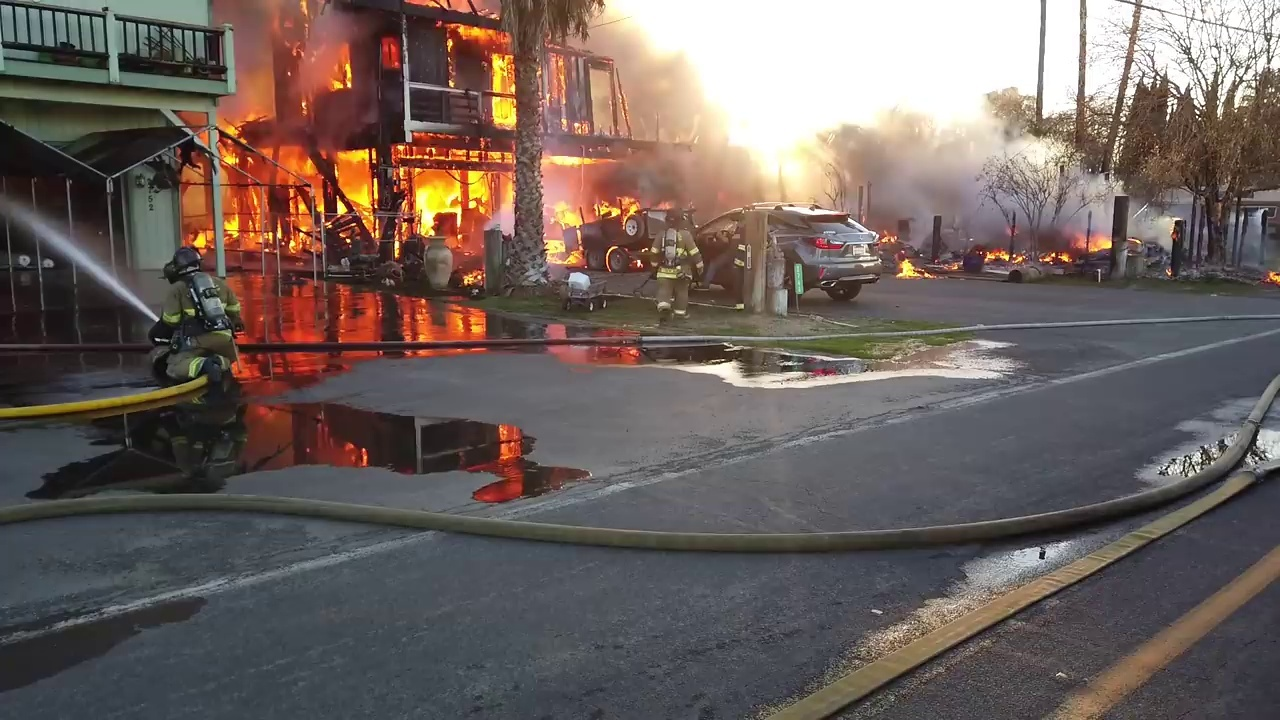fire: (180, 2, 627, 267), (186, 221, 215, 257), (897, 260, 937, 275), (981, 248, 1023, 259), (1086, 235, 1111, 249), (1043, 248, 1071, 258), (876, 228, 894, 241), (1266, 269, 1279, 281)
smoke: (770, 35, 1055, 224), (582, 1, 763, 207), (746, 128, 835, 206)
